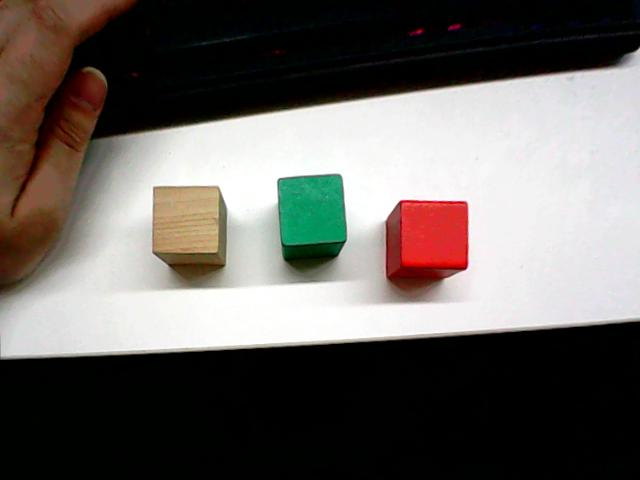green_box: (273, 170, 349, 263)
raw_box: (149, 181, 229, 271)
red_box: (382, 194, 472, 284)
